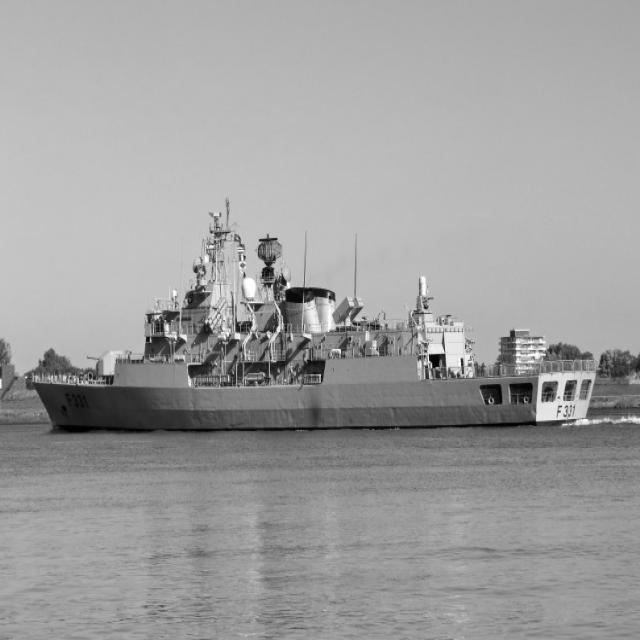Fragata: (24, 199, 599, 430)
